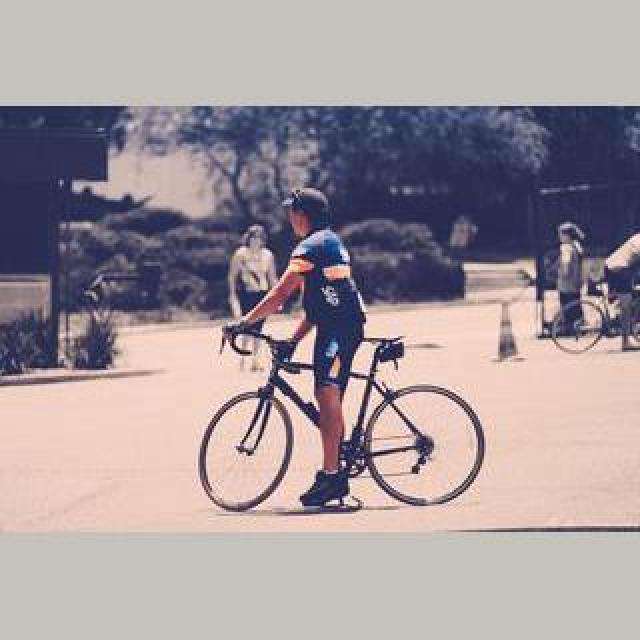MC-Bike: (224, 200, 372, 508), (542, 220, 590, 342), (226, 224, 276, 322), (602, 226, 640, 338), (446, 214, 480, 298)
Person: (197, 320, 483, 512), (550, 282, 638, 354)
